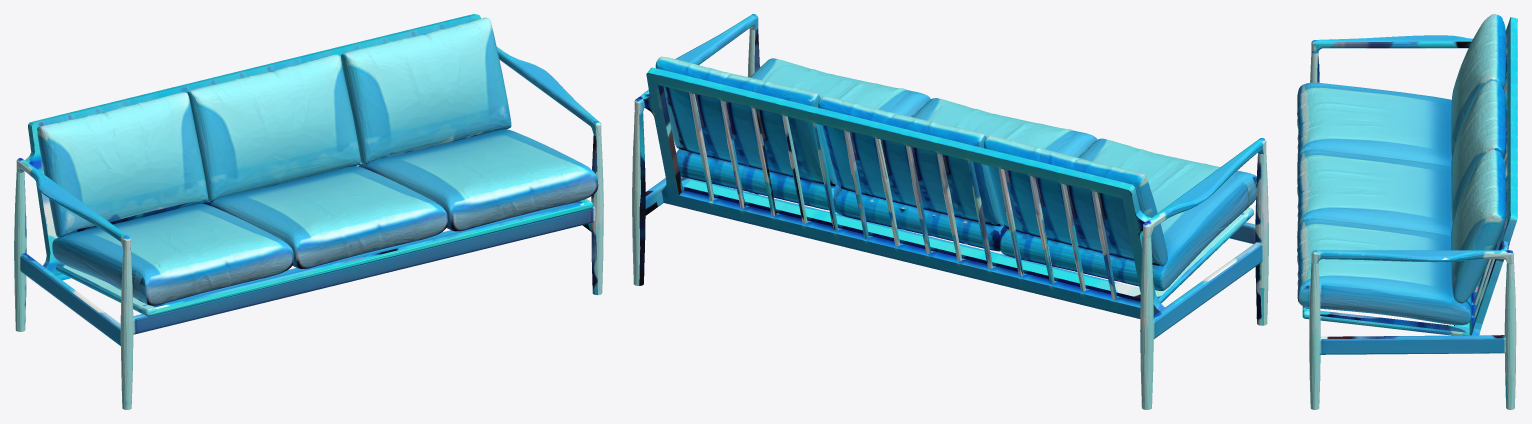
The model's file is edited_mesh.glb.
The picture shows the model from 3 angles, left to right: view 1: azimuth 30°, elevation 25°; view 2: azimuth 150°, elevation 25°; view 3: azimuth 270°, elevation 25°; orthographic projection. The views are drawn at different scales.
Visible parts, largest first — view 1: solid_001_wire; view 2: solid_001_wire; view 3: solid_001_wire.
Part boxes in pixels (<box>): solid_001_wire: <box>14,14,603,409</box>; solid_001_wire: <box>632,14,1268,409</box>; solid_001_wire: <box>1297,14,1517,409</box>.
Bounding box in the file's own units: 2 × 0.7861 × 0.8303.
1 material, 1 textured.
